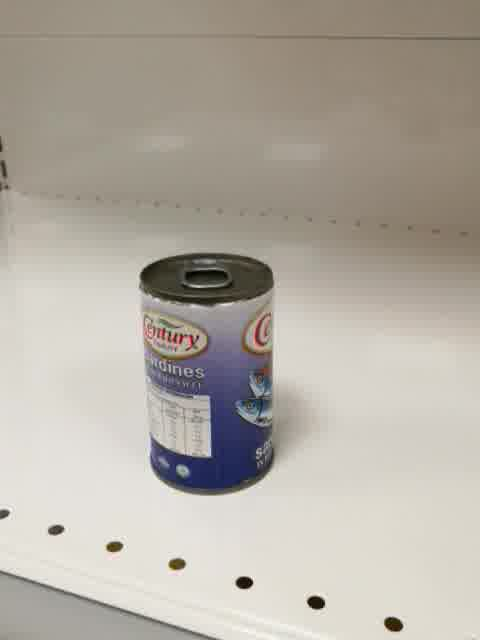sardine: (137, 250, 276, 497)
